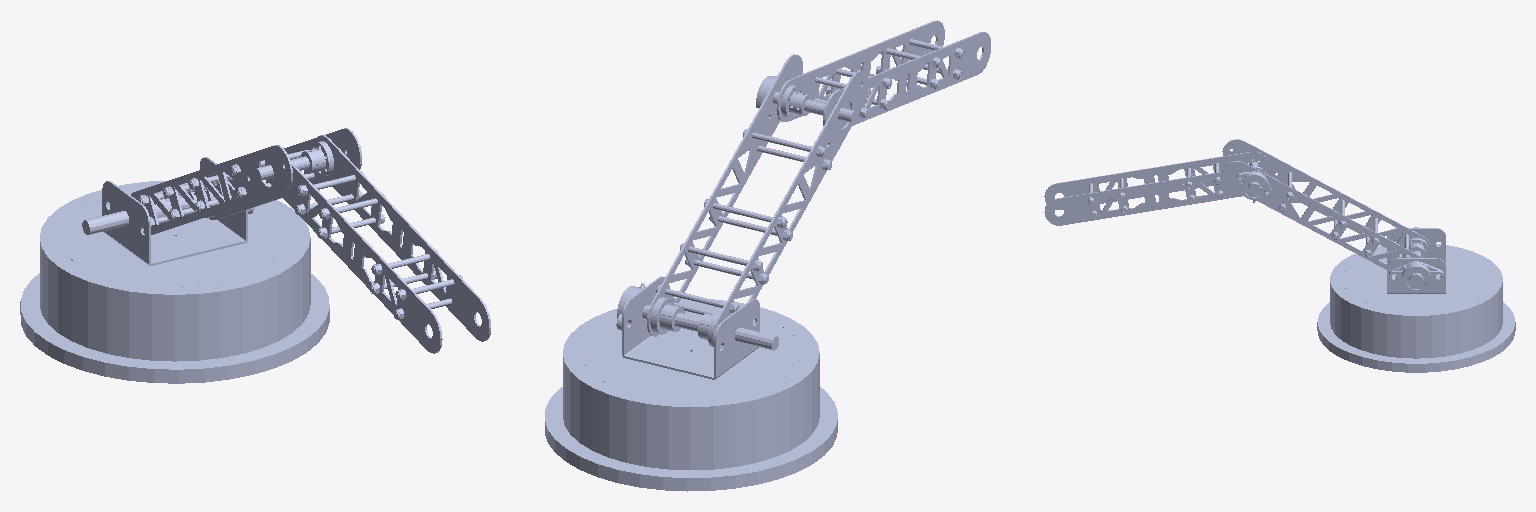
URDF robot description (URDF):
<?xml version="1.0" encoding="utf-8"?>
<robot
  name="URDF">

  <!-- Fixed world anchor -->
  <link name="world"/>
  <joint name="world_fixed" type="fixed">
    <origin xyz="0 0 0" rpy="0 0 0"/>
    <parent link="world"/>
    <child link="rover_link"/>
  </joint>

  <link
    name="rover_link">
    <inertial>
      <origin
        xyz="-1.53707584473793E-33 3.12960622482824E-17 0.0495612813370474"
        rpy="0 0 0" />
      <mass
        value="3.52447425824605" />
      <inertia
        ixx="0.053748147207602"
        ixy="1.17815874515891E-33"
        ixz="-5.15097616290709E-34"
        iyy="0.053748147207602"
        iyz="2.59498526174835E-18"
        izz="0.0987730229319565" />
    </inertial>
    <visual>
      <origin
        xyz="0 0 0"
        rpy="0 0 0" />
      <geometry>
        <mesh
          filename="package://robotic_arm_control/meshes/rover_link.STL" />
      </geometry>
      <material
        name="">
        <color
          rgba="0.792156862745098 0.819607843137255 0.933333333333333 1" />
      </material>
    </visual>
    <collision>
      <origin
        xyz="0 0 0"
        rpy="0 0 0" />
      <geometry>
        <mesh
          filename="package://robotic_arm_control/meshes/rover_link.STL" />
      </geometry>
    </collision>
  </link>
  <link
    name="base_Link">
    <inertial>
      <origin
        xyz="0.0046966429585225 0.0152296963336759 0.0665638293575894"
        rpy="0 0 0" />
      <mass
        value="1.23478978303734" />
      <inertia
        ixx="0.00467193692227462"
        ixy="1.19964737132145E-07"
        ixz="1.49425582052779E-08"
        iyy="0.00417218772748465"
        iyz="3.50407634446874E-06"
        izz="0.00853382575005596" />
    </inertial>
    <visual>
      <origin
        xyz="0 0 0"
        rpy="0 0 0" />
      <geometry>
        <mesh
          filename="package://robotic_arm_control/meshes/base_Link.STL" />
      </geometry>
      <material
        name="">
        <color
          rgba="0.792156862745098 0.819607843137255 0.933333333333333 1" />
      </material>
    </visual>
    <collision>
      <origin
        xyz="0 0 0"
        rpy="0 0 0" />
      <geometry>
        <mesh
          filename="package://robotic_arm_control/meshes/base_Link.STL" />
      </geometry>
    </collision>
  </link>
  <joint
    name="base_joint"
    type="revolute">
    <origin
      xyz="0 0 0"
      rpy="0 0 0" />
    <parent
      link="rover_link" />
    <child
      link="base_Link" />
    <axis
      xyz="0 0 1" />
    <limit
      lower="-3.14159"
      upper="3.14159"
      effort="10.0"
      velocity="1.0" />
  </joint>
  <link
    name="link1_Link">
    <inertial>
      <origin
        xyz="0.00396820665544839 -0.123748701917041 0.0726858184034952"
        rpy="0 0 0" />
      <mass
        value="0.357727091654715" />
      <inertia
        ixx="0.00250889336406051"
        ixy="-3.77499904498085E-09"
        ixz="6.65403985953818E-09"
        iyy="0.00110718896719104"
        iyz="0.0010410555122776"
        izz="0.00227041398507663" />
    </inertial>
    <visual>
      <origin
        xyz="0 0 0"
        rpy="0 0 0" />
      <geometry>
        <mesh
          filename="package://robotic_arm_control/meshes/link1_Link.STL" />
      </geometry>
      <material
        name="">
        <color
          rgba="0.792156862745098 0.819607843137255 0.933333333333333 1" />
      </material>
    </visual>
    <collision>
      <origin
        xyz="0 0 0"
        rpy="0 0 0" />
      <geometry>
        <mesh
          filename="package://robotic_arm_control/meshes/link1_Link.STL" />
      </geometry>
    </collision>
  </link>
  <joint
    name="shoulder_joint"
    type="revolute">
    <origin
      xyz="0 0 0.16"
      rpy="0 0 0" />
    <parent
      link="base_Link" />
    <child
      link="link1_Link" />
    <axis
      xyz="-1 0 0" />
    <limit
      lower="-1.57"
      upper="1.57"
      effort="10.0"
      velocity="1.0" />
  </joint>
  <link
    name="link2_Link">
    <inertial>
      <origin
        xyz="-0.003246438141612 -0.154370097507869 -0.0276615517464144"
        rpy="0 0 0" />
      <mass
        value="0.238900462331021" />
      <inertia
        ixx="0.00245443918187896"
        ixy="-8.14916725571879E-13"
        ixz="-1.50598234095093E-14"
        iyy="0.000210000112179241"
        iyz="-0.000409525133400757"
        izz="0.00242204355866926" />
    </inertial>
    <visual>
      <origin
        xyz="0 0 0"
        rpy="0 0 0" />
      <geometry>
        <mesh
          filename="package://robotic_arm_control/meshes/link2_Link.STL" />
      </geometry>
      <material
        name="">
        <color
          rgba="0.792156862745098 0.819607843137255 0.933333333333333 1" />
      </material>
    </visual>
    <collision>
      <origin
        xyz="0 0 0"
        rpy="0 0 0" />
      <geometry>
        <mesh
          filename="package://robotic_arm_control/meshes/link2_Link.STL" />
      </geometry>
    </collision>
  </link>
  <joint
    name="elbow_joint"
    type="revolute">
    <origin
      xyz="0.006 -0.32763 0.19251"
      rpy="0 0 0" />
    <parent
      link="link1_Link" />
    <child
      link="link2_Link" />
    <axis
      xyz="1 0 0" />
    <limit
      lower="-2.094"
      upper="2.094"
      effort="5.0"
      velocity="1.0" />
  </joint>

   <link
    name="tip_link"/>

  <joint
    name="tip_joint" type="fixed">
    <origin xyz="0 -0.3087 0" rpy="0 0 0"/>
    <parent link="link2_Link"/>
    <child link="tip_link"/>
  </joint>
  
  

  <!-- ros2_control for real hardware -->
  <ros2_control name="ArmSystem" type="system">
  <hardware>
    <plugin>arm_hardware_interface/ArmHardwareInterface</plugin>
    <!-- Transport selection: "serial" or "wifi"
         Override at launch time:
           ros2 launch arm_moveit_conf_pkg real_arm.launch.py transport:=wifi
           ros2 launch arm_moveit_conf_pkg real_arm.launch.py transport:=serial -->
    <param name="transport">serial</param>
    <!-- Serial transport params -->
    <param name="serial_port">/dev/ttyUSB0</param>
    <param name="baud_rate">115200</param>
    <!-- WiFi transport params (used when transport=wifi) -->
    <param name="esp_ip">192.168.1.105</param>
    <param name="esp_port">8888</param>
  </hardware>


  <!-- ros2_control for Gazebo Harmonic --> <!-- Uncomment if running gazebo simulation-->
  <!-- <ros2_control name="GazeboSimSystem" type="system">
    <hardware>
      <plugin>gz_ros2_control/GazeboSimSystem</plugin>
    </hardware> -->
  
  <!-- ros2_control for Demo in moveit --> <!-- Uncomment if running moveit in Rviz simulation-->
  <!-- <ros2_control name="DemoSimSystem" type="system">
    <hardware>
      <plugin>mock_components/GenericSystem</plugin>
    </hardware> -->

  
    
    <joint name="base_joint">
      <command_interface name="position">
        <param name="min">-3.14159</param>
        <param name="max">3.14159</param>
      </command_interface>
      <state_interface name="position"/>
      <state_interface name="velocity"/>
    </joint>
    
    <joint name="shoulder_joint">
      <command_interface name="position">
        <param name="min">-1.57</param>
        <param name="max">1.57</param>
      </command_interface>
      <state_interface name="position"/>
      <state_interface name="velocity"/>
    </joint>
    
    <joint name="elbow_joint">
      <command_interface name="position">
        <param name="min">-2.094</param>
        <param name="max">2.094</param>
      </command_interface>
      <state_interface name="position"/>
      <state_interface name="velocity"/>
    </joint>
  </ros2_control>
  
  <!-- Gazebo Harmonic plugin - controller config path injected by gazebo.launch.py -->
  <gazebo>
    <plugin filename="libgz_ros2_control-system.so" name="gz_ros2_control::GazeboSimROS2ControlPlugin">
      <robot_param>robot_description</robot_param>
      <robot_param_node>robot_state_publisher</robot_param_node>
      <controller_manager_name>controller_manager</controller_manager_name>
    </plugin>
  </gazebo>
</robot>

--- Render facts (derived) ---
3 views of the same robot in one strip: view 1: azimuth 30°, elevation 25°; view 2: azimuth 150°, elevation 25°; view 3: azimuth 270°, elevation 25° (orthographic).
Robot: URDF — 6 links, 5 joints (3 revolute, 2 fixed); root link world; default pose: every joint at zero.
Links seen in each view (by area): view 1: rover_link, link2_Link, base_Link, link1_Link; view 2: rover_link, link1_Link, base_Link, link2_Link; view 3: rover_link, link1_Link, link2_Link, base_Link.
Link boxes in pixels (bbox=[...]): rover_link: bbox=[20, 181, 329, 383]; link2_Link: bbox=[254, 135, 490, 353]; base_Link: bbox=[59, 157, 290, 286]; link1_Link: bbox=[82, 128, 361, 234]; rover_link: bbox=[545, 299, 837, 491]; link1_Link: bbox=[642, 54, 868, 350]; base_Link: bbox=[581, 276, 800, 398]; link2_Link: bbox=[773, 20, 990, 127]; rover_link: bbox=[1317, 244, 1515, 372]; link1_Link: bbox=[1222, 139, 1430, 285]; link2_Link: bbox=[1044, 152, 1268, 225]; base_Link: bbox=[1342, 228, 1490, 310].
Size in the robot's own frame: 0.3986 by 0.9514 by 0.4025 metres.
4 mesh visuals loaded from 4 distinct referenced files (4 binary STL).
